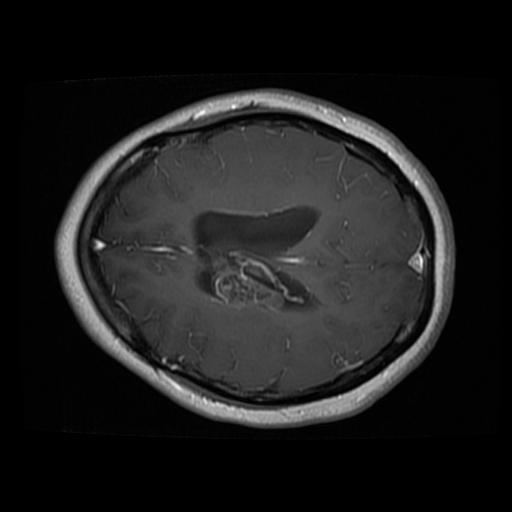glioma: (207, 242, 292, 312)
